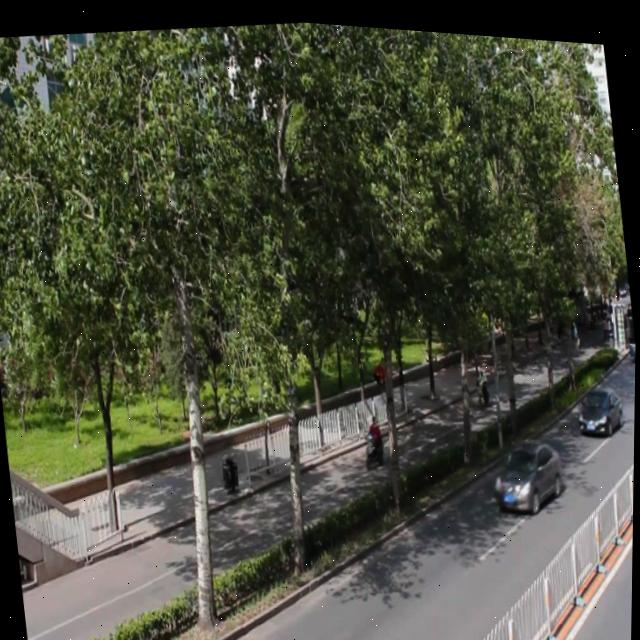car: (487, 423, 567, 510), (571, 372, 626, 431)
